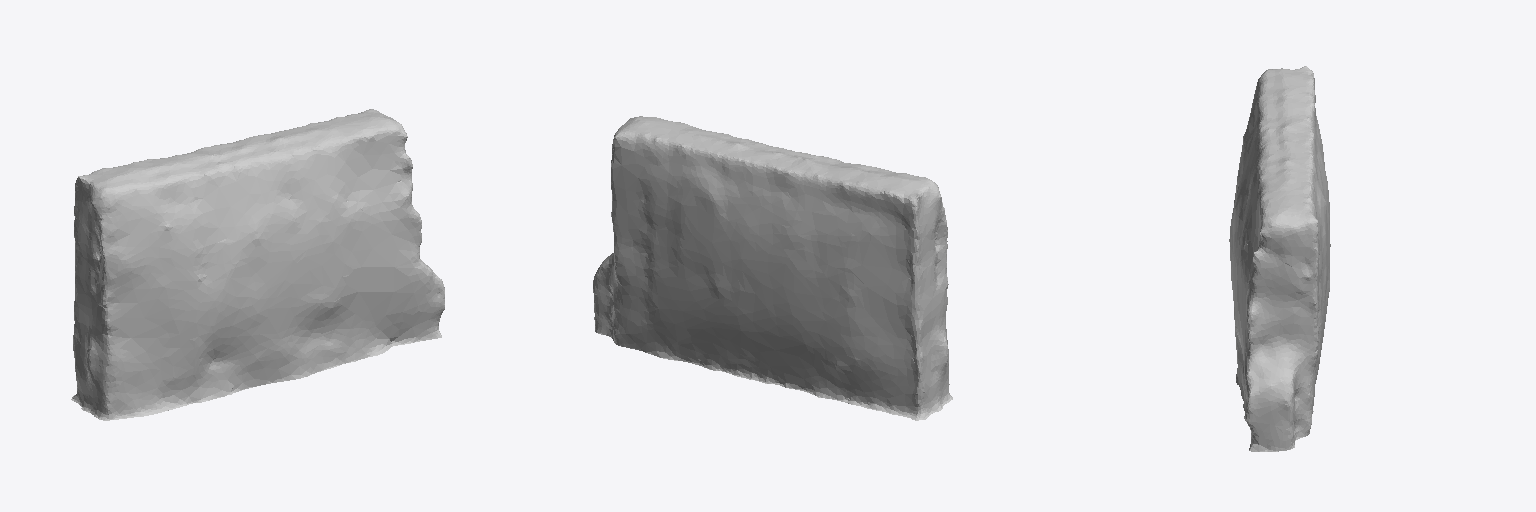
Rendered from PSP_battery_cut.obj.
The picture shows the model from 3 angles: view 1: azimuth 30°, elevation 25°; view 2: azimuth 150°, elevation 25°; view 3: azimuth 270°, elevation 25°; orthographic projection.
Parts seen in each view (by area): view 1: Scaniverse_2023_04_22_172216; view 2: Scaniverse_2023_04_22_172216; view 3: Scaniverse_2023_04_22_172216.
Part boxes in pixels (x1,y1,x2,y2): Scaniverse_2023_04_22_172216: (71, 109, 444, 420); Scaniverse_2023_04_22_172216: (593, 116, 952, 420); Scaniverse_2023_04_22_172216: (1229, 66, 1330, 451).
Size of the model in its own units: 0.0594 by 0.0365 by 0.015.